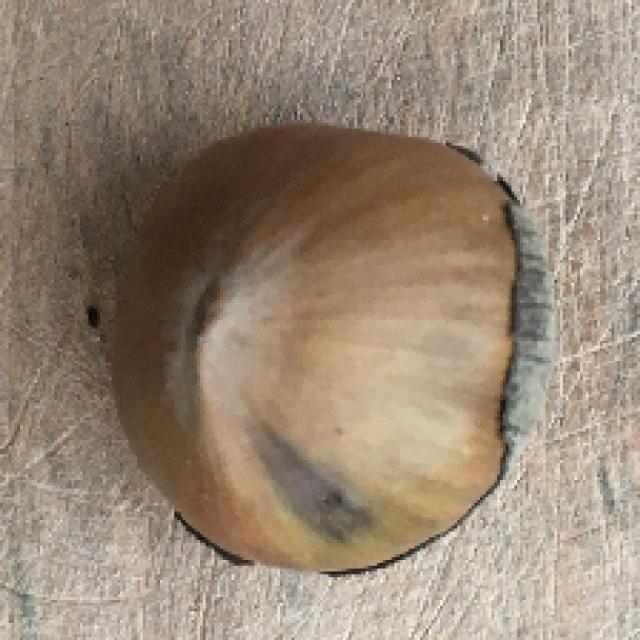DamagedHazelnut: (109, 122, 560, 573)
